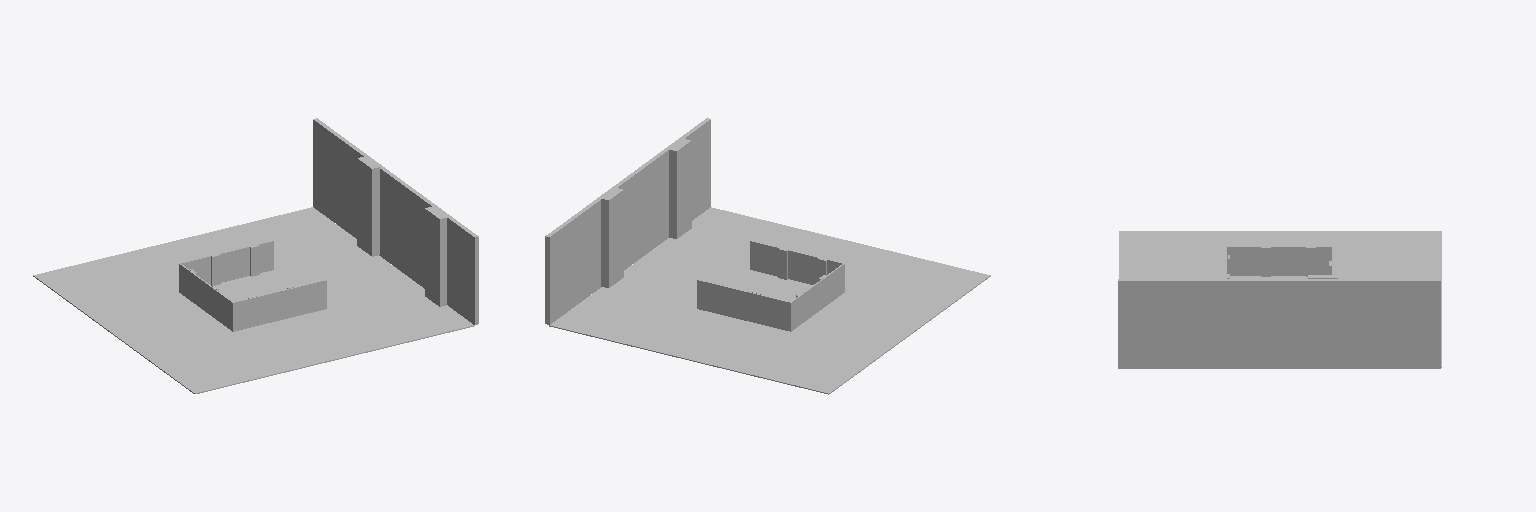
File: plane-trial5.obj
3 renders of one model, left to right at view 1: azimuth 30°, elevation 25°; view 2: azimuth 150°, elevation 25°; view 3: azimuth 270°, elevation 25°, orthographic.
Parts seen in each view (by area): view 1: Cube, Cube.002_Cube.005, Cube.004_Cube.006, Cube.003, Cube.001_Cube.004; view 2: Cube, Cube.002_Cube.005, Cube.003, Cube.004_Cube.006, Cube.001_Cube.004; view 3: Cube.002_Cube.005, Cube, Cube.001_Cube.004.
Boxes of the visible parts, box(x1,y1,x2,y2) form: Cube: box(33, 207, 474, 393); Cube.002_Cube.005: box(313, 118, 478, 324); Cube.004_Cube.006: box(234, 279, 326, 331); Cube.003: box(181, 240, 273, 285); Cube.001_Cube.004: box(179, 263, 233, 331); Cube: box(549, 207, 990, 394); Cube.002_Cube.005: box(545, 118, 710, 324); Cube.003: box(697, 279, 789, 330); Cube.004_Cube.006: box(750, 241, 842, 284); Cube.001_Cube.004: box(790, 263, 844, 331); Cube.002_Cube.005: box(1118, 275, 1440, 368); Cube: box(1119, 231, 1441, 367); Cube.001_Cube.004: box(1227, 247, 1331, 276).
Size of the model in its own units: 186 by 56.12 by 183.